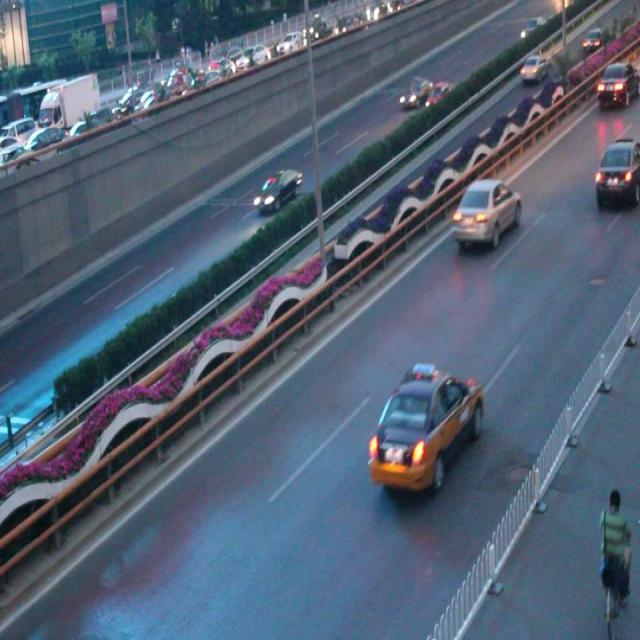car: (366, 362, 481, 493), (451, 180, 521, 250), (593, 140, 640, 203), (252, 168, 301, 214), (398, 75, 431, 109), (421, 80, 449, 111)
